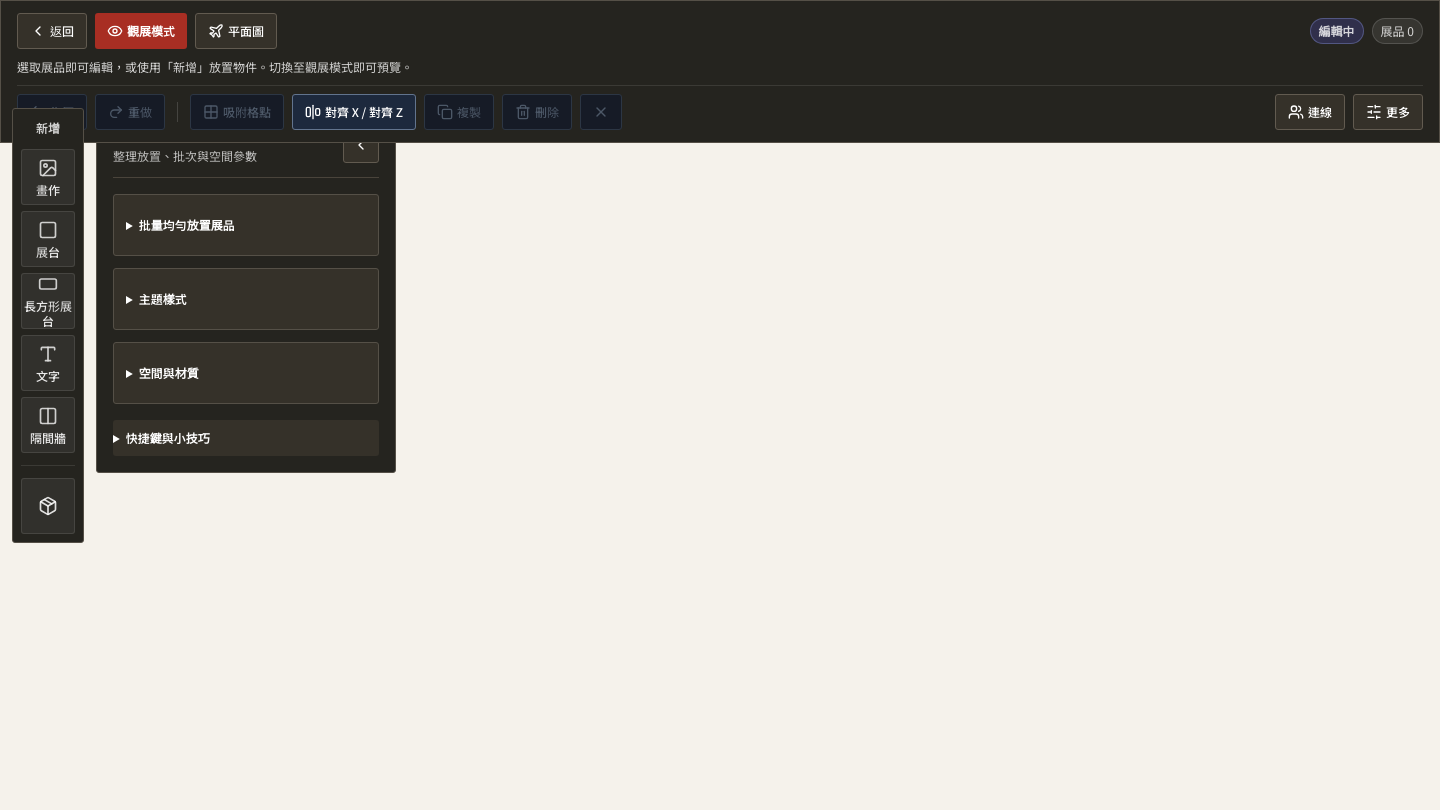
EditUI AI builder › automatically restores the better persisted version after a harmful revision
Click the button "更多" at {"x": 1388, "y": 112}, box [1353,94,1423,130]
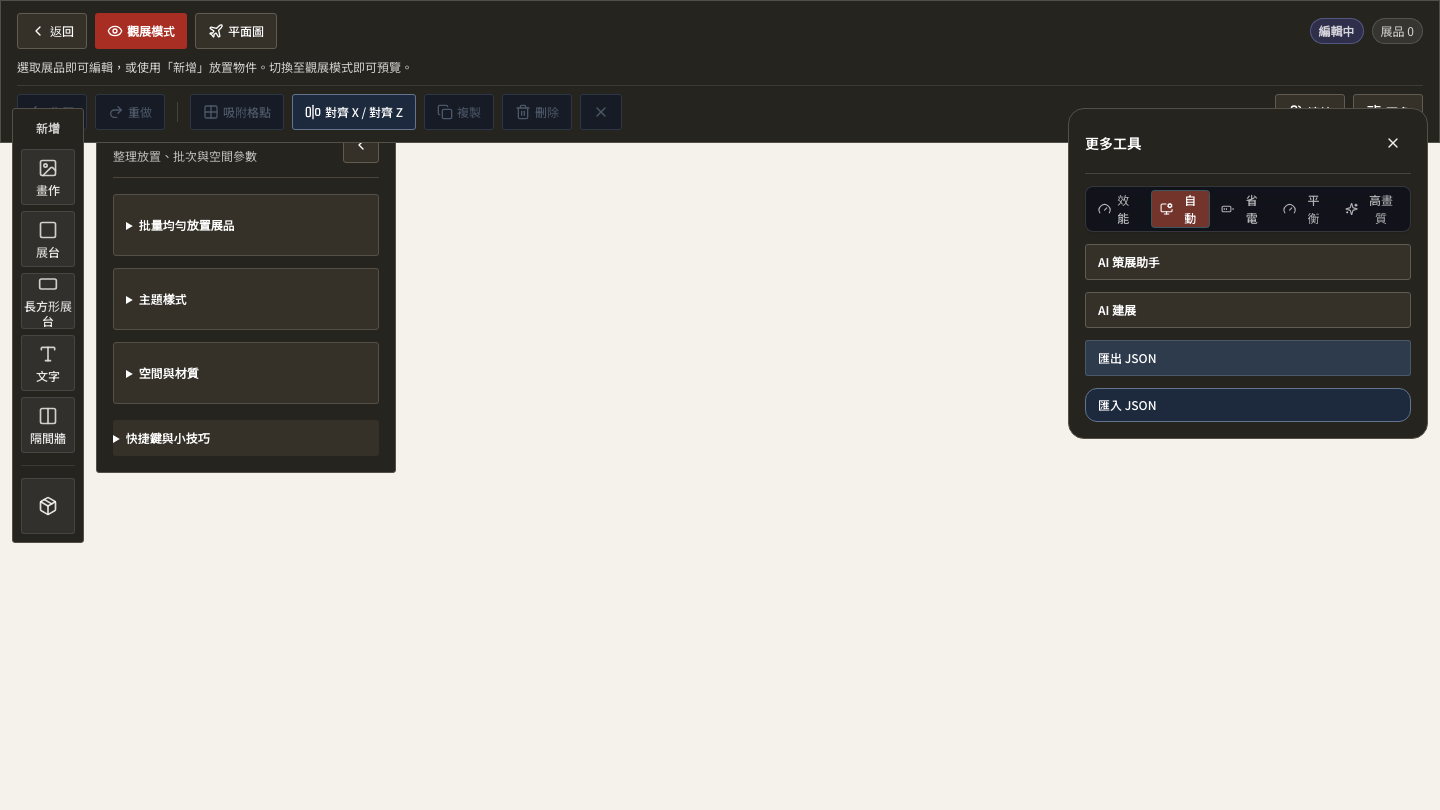
Click the button "AI 建展" at {"x": 1117, "y": 310}, box [1085,292,1411,328]
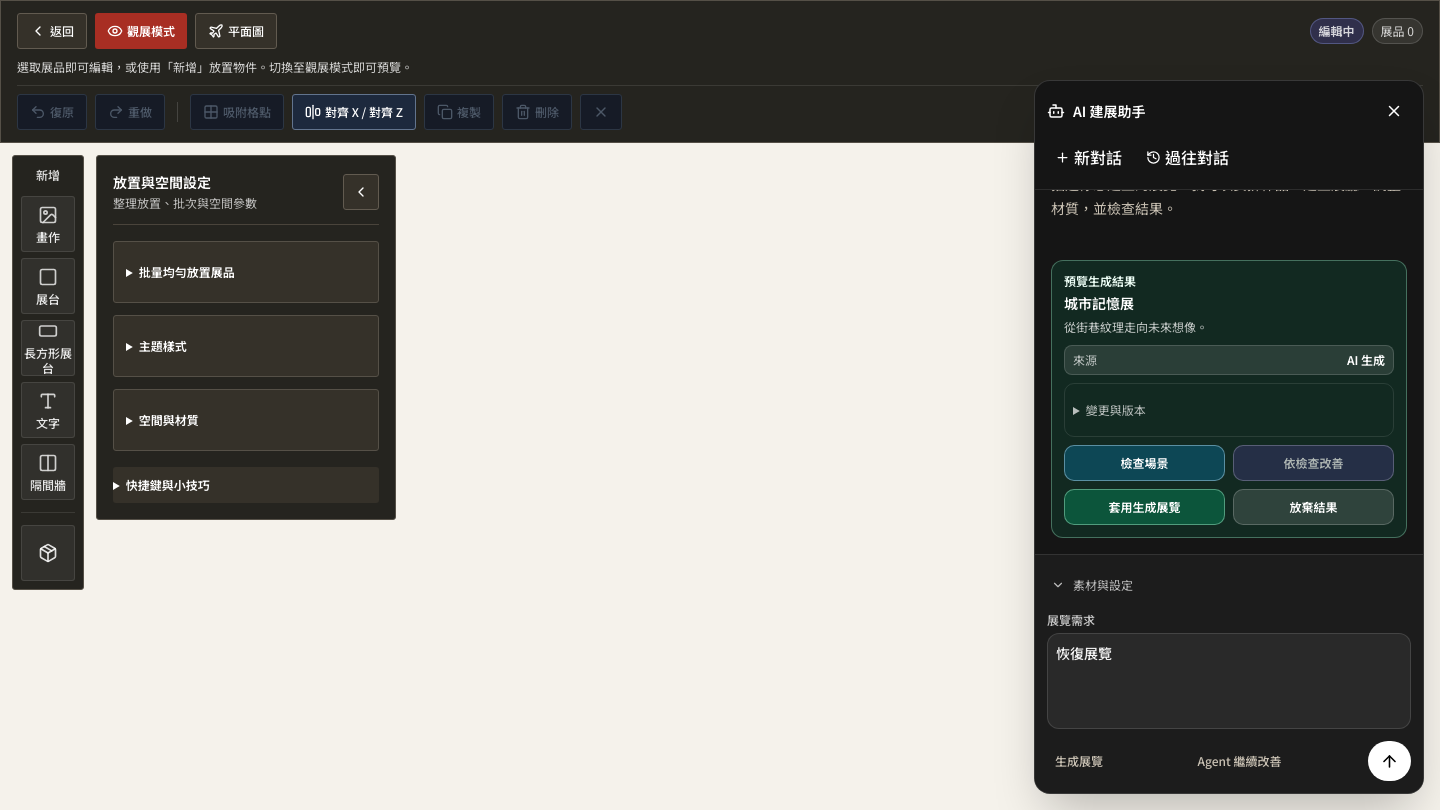
Expected: the text "城市記憶展" is shown, [1064,293,1134,313]
Click the button "Agent 繼續改善" at {"x": 1240, "y": 761}, box [1190,743,1290,779]
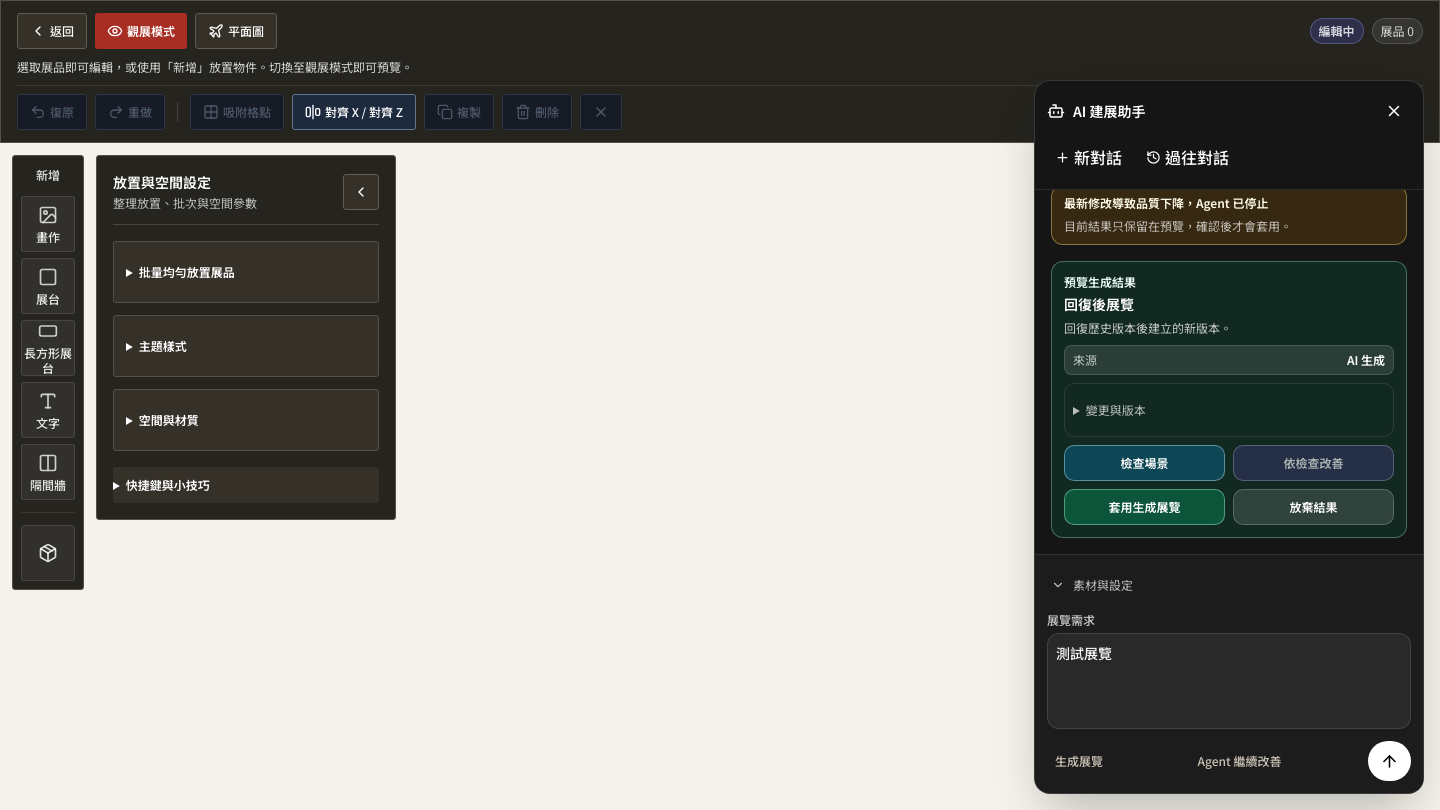
Expected: the text "回復後展覽" is shown, [1064,294,1134,314]
Expected: the text "最新修改導致品質下降，Agent 已停止" is shown, [1064,194,1268,211]
